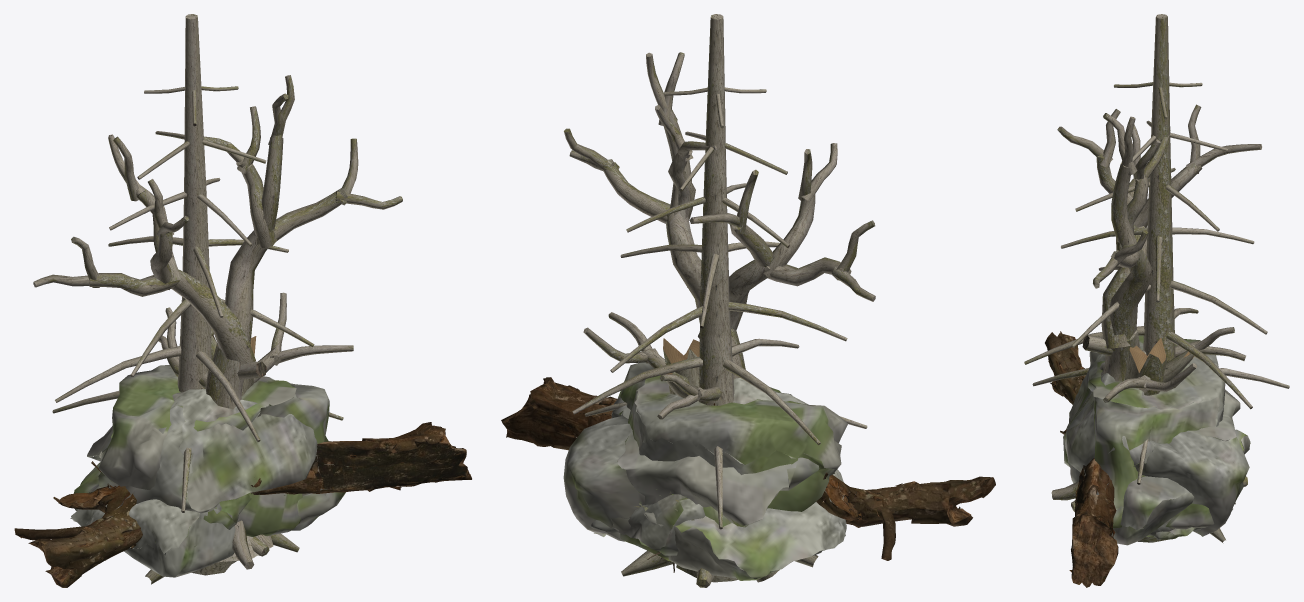
Rendered from swamp-bank.glb.
3 views of the same model, side by side, from view 1: azimuth 30°, elevation 25°; view 2: azimuth 150°, elevation 25°; view 3: azimuth 270°, elevation 25° (orthographic). The views are drawn at different scales.
Parts seen in each view (by area): view 1: Dead tree wood, dead_tree_trunk_02, Dead pine wood, rock_moss_set_02_rock11, rock_moss_set_02_rock13, rock_moss_set_02_rock10, rock_moss_set_02_rock07, swamp_water_broken_tree, rock_moss_set_02_rock12; view 2: Dead tree wood, Dead pine wood, rock_moss_set_02_rock11, rock_moss_set_02_rock13, dead_tree_trunk_02, rock_moss_set_02_rock10, rock_moss_set_02_rock12, swamp_water_broken_tree; view 3: Dead tree wood, Dead pine wood, rock_moss_set_02_rock11, rock_moss_set_02_rock13, dead_tree_trunk_02, rock_moss_set_02_rock10, swamp_water_broken_tree, rock_moss_set_02_rock07.
Part boxes in pixels (left/top/right/bottom): Dead tree wood: left=33, top=75, right=402, bottom=569; dead_tree_trunk_02: left=14, top=422, right=471, bottom=587; Dead pine wood: left=52, top=14, right=343, bottom=556; rock_moss_set_02_rock11: left=87, top=389, right=328, bottom=513; rock_moss_set_02_rock13: left=98, top=365, right=348, bottom=536; rock_moss_set_02_rock10: left=70, top=440, right=331, bottom=577; rock_moss_set_02_rock07: left=230, top=492, right=302, bottom=537; swamp_water_broken_tree: left=145, top=335, right=299, bottom=584; rock_moss_set_02_rock12: left=155, top=493, right=251, bottom=546; Dead tree wood: left=564, top=52, right=875, bottom=419; Dead pine wood: left=572, top=14, right=867, bottom=587; rock_moss_set_02_rock11: left=563, top=378, right=832, bottom=541; rock_moss_set_02_rock13: left=618, top=362, right=848, bottom=511; dead_tree_trunk_02: left=501, top=377, right=995, bottom=560; rock_moss_set_02_rock10: left=643, top=469, right=846, bottom=580; rock_moss_set_02_rock12: left=590, top=494, right=705, bottom=555; swamp_water_broken_tree: left=621, top=338, right=818, bottom=582; Dead tree wood: left=1051, top=104, right=1261, bottom=500; Dead pine wood: left=1024, top=14, right=1289, bottom=511; rock_moss_set_02_rock11: left=1064, top=354, right=1249, bottom=536; rock_moss_set_02_rock13: left=1088, top=335, right=1225, bottom=528; dead_tree_trunk_02: left=1045, top=331, right=1118, bottom=587; rock_moss_set_02_rock10: left=1063, top=423, right=1250, bottom=545; swamp_water_broken_tree: left=1125, top=337, right=1225, bottom=543; rock_moss_set_02_rock07: left=1133, top=499, right=1214, bottom=529.
Bounding box in the file's own units: 4.03 × 4.66 × 2.19.
23 materials, 16 textured.
